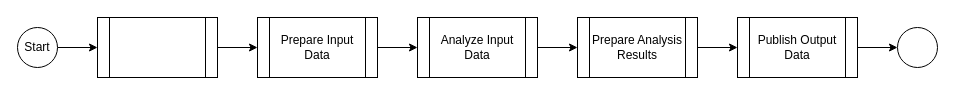
Some shapes in this 955 by 95 pixel diagram are drawn without their labels. Each missing label, with the centre of its shape:
"End" goes at point (917, 47).
"Provide Raw Input Data" goes at point (157, 47).
